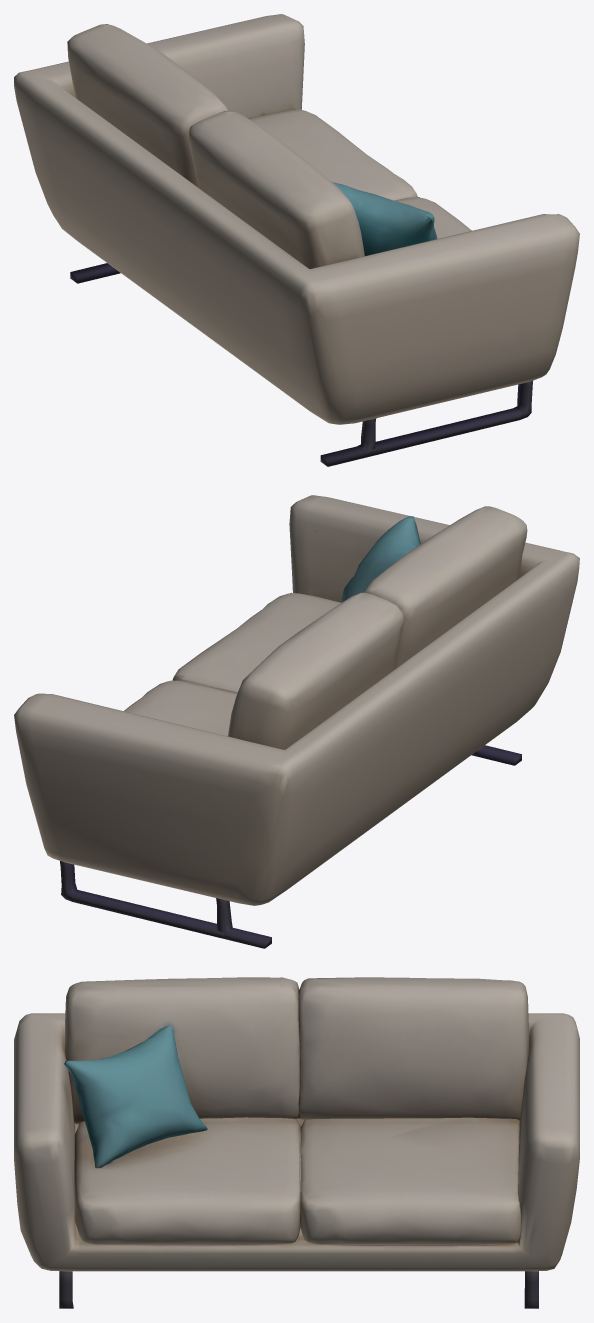
Rendered from sofa.glb.
The picture shows the model from 3 angles, top to bottom: view 1: azimuth 30°, elevation 25°; view 2: azimuth 150°, elevation 25°; view 3: azimuth 270°, elevation 25°; orthographic projection. The views are drawn at different scales.
Visible parts, largest first — view 1: tripo_node_kodyurd-model-80____________________; view 2: tripo_node_kodyurd-model-80____________________; view 3: tripo_node_kodyurd-model-80____________________.
Part boxes in pixels (x1,y1,x2,y2): tripo_node_kodyurd-model-80____________________: [14, 14, 579, 466]; tripo_node_kodyurd-model-80____________________: [14, 495, 579, 948]; tripo_node_kodyurd-model-80____________________: [14, 977, 579, 1308].
Size of the model in its own units: 0.5254 by 0.4746 by 0.998.
Materials: 1 (1 with a texture image).
